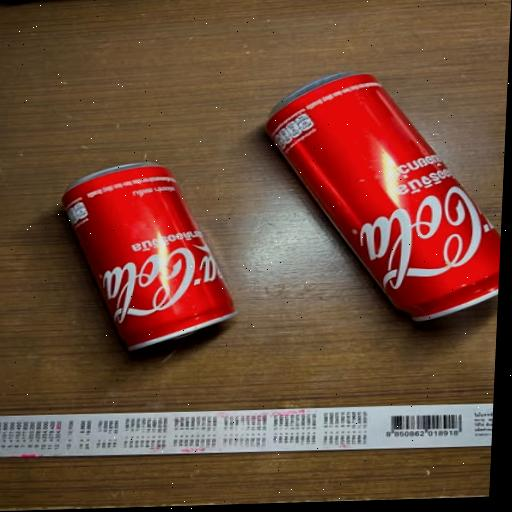canned: (247, 36, 510, 334), (18, 140, 262, 375)
